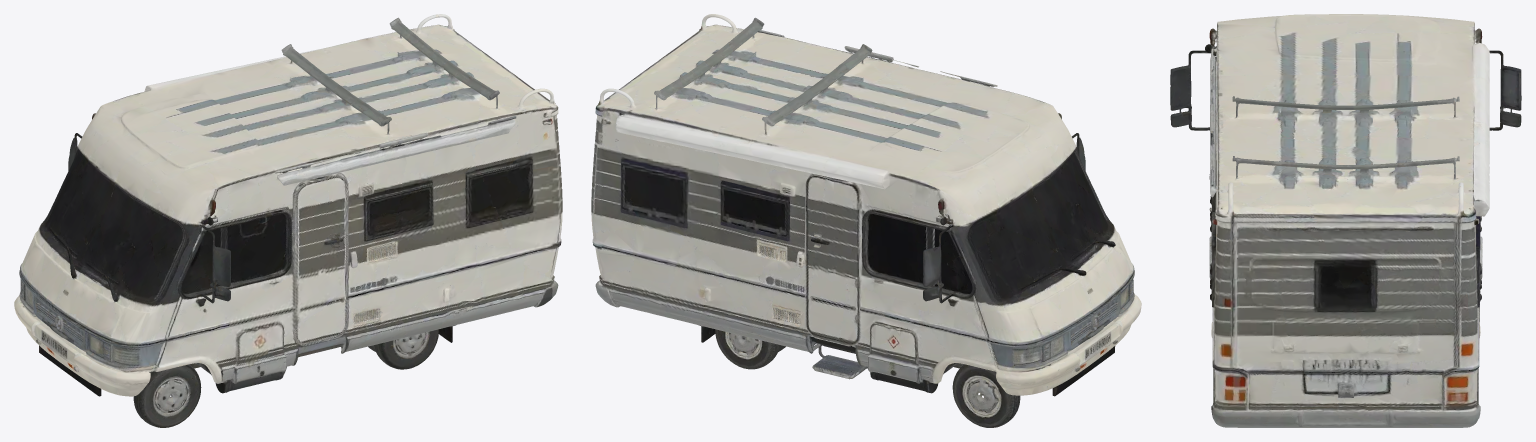
The model's file is motor-home-shrink.glb.
The picture shows the model from 3 angles, left to right: view 1: azimuth 30°, elevation 25°; view 2: azimuth 150°, elevation 25°; view 3: azimuth 270°, elevation 25°; orthographic projection. The views are drawn at different scales.
Visible parts, largest first — view 1: motor home; view 2: motor home; view 3: motor home.
Part boxes in pixels (<box>): motor home: <box>14,14,562,427</box>; motor home: <box>591,14,1141,427</box>; motor home: <box>1170,14,1521,427</box>.
Bounding box in the file's own units: 190 × 103 × 112.
Materials: 1 (1 with a texture image).
